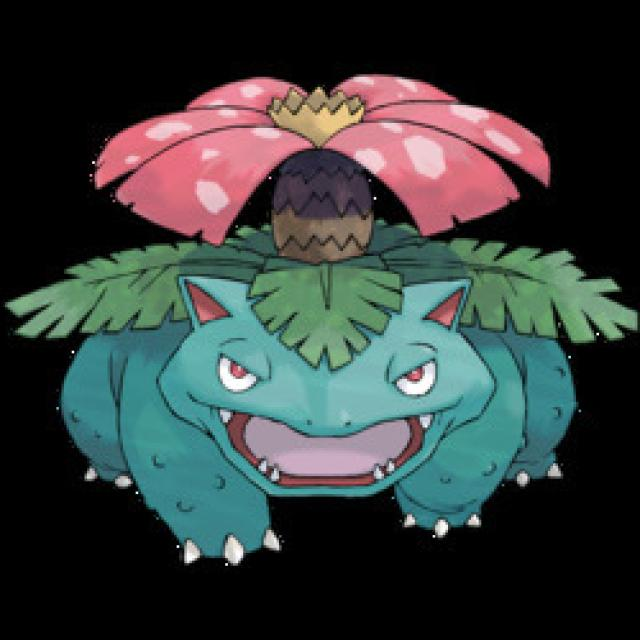Venusaur: (91, 50, 528, 547)
